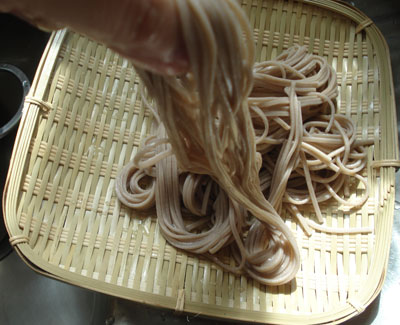Soba: (82, 13, 380, 290)
